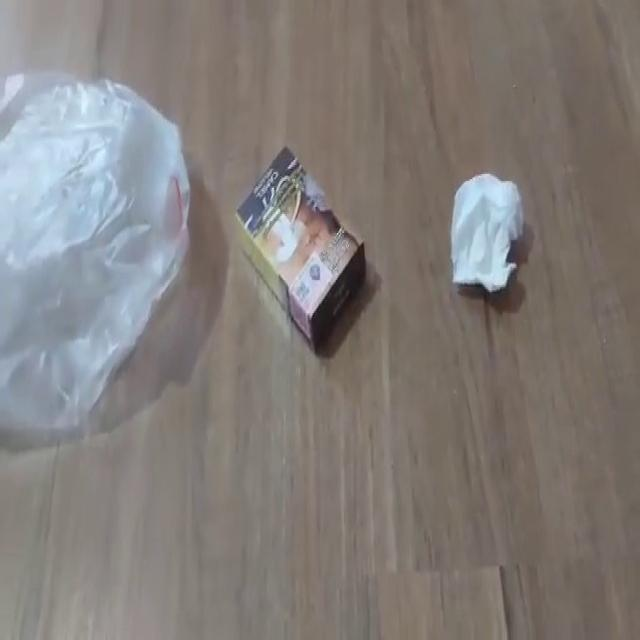Anorganik: (1, 59, 196, 437)
Organik: (232, 137, 370, 360), (448, 163, 527, 301)
